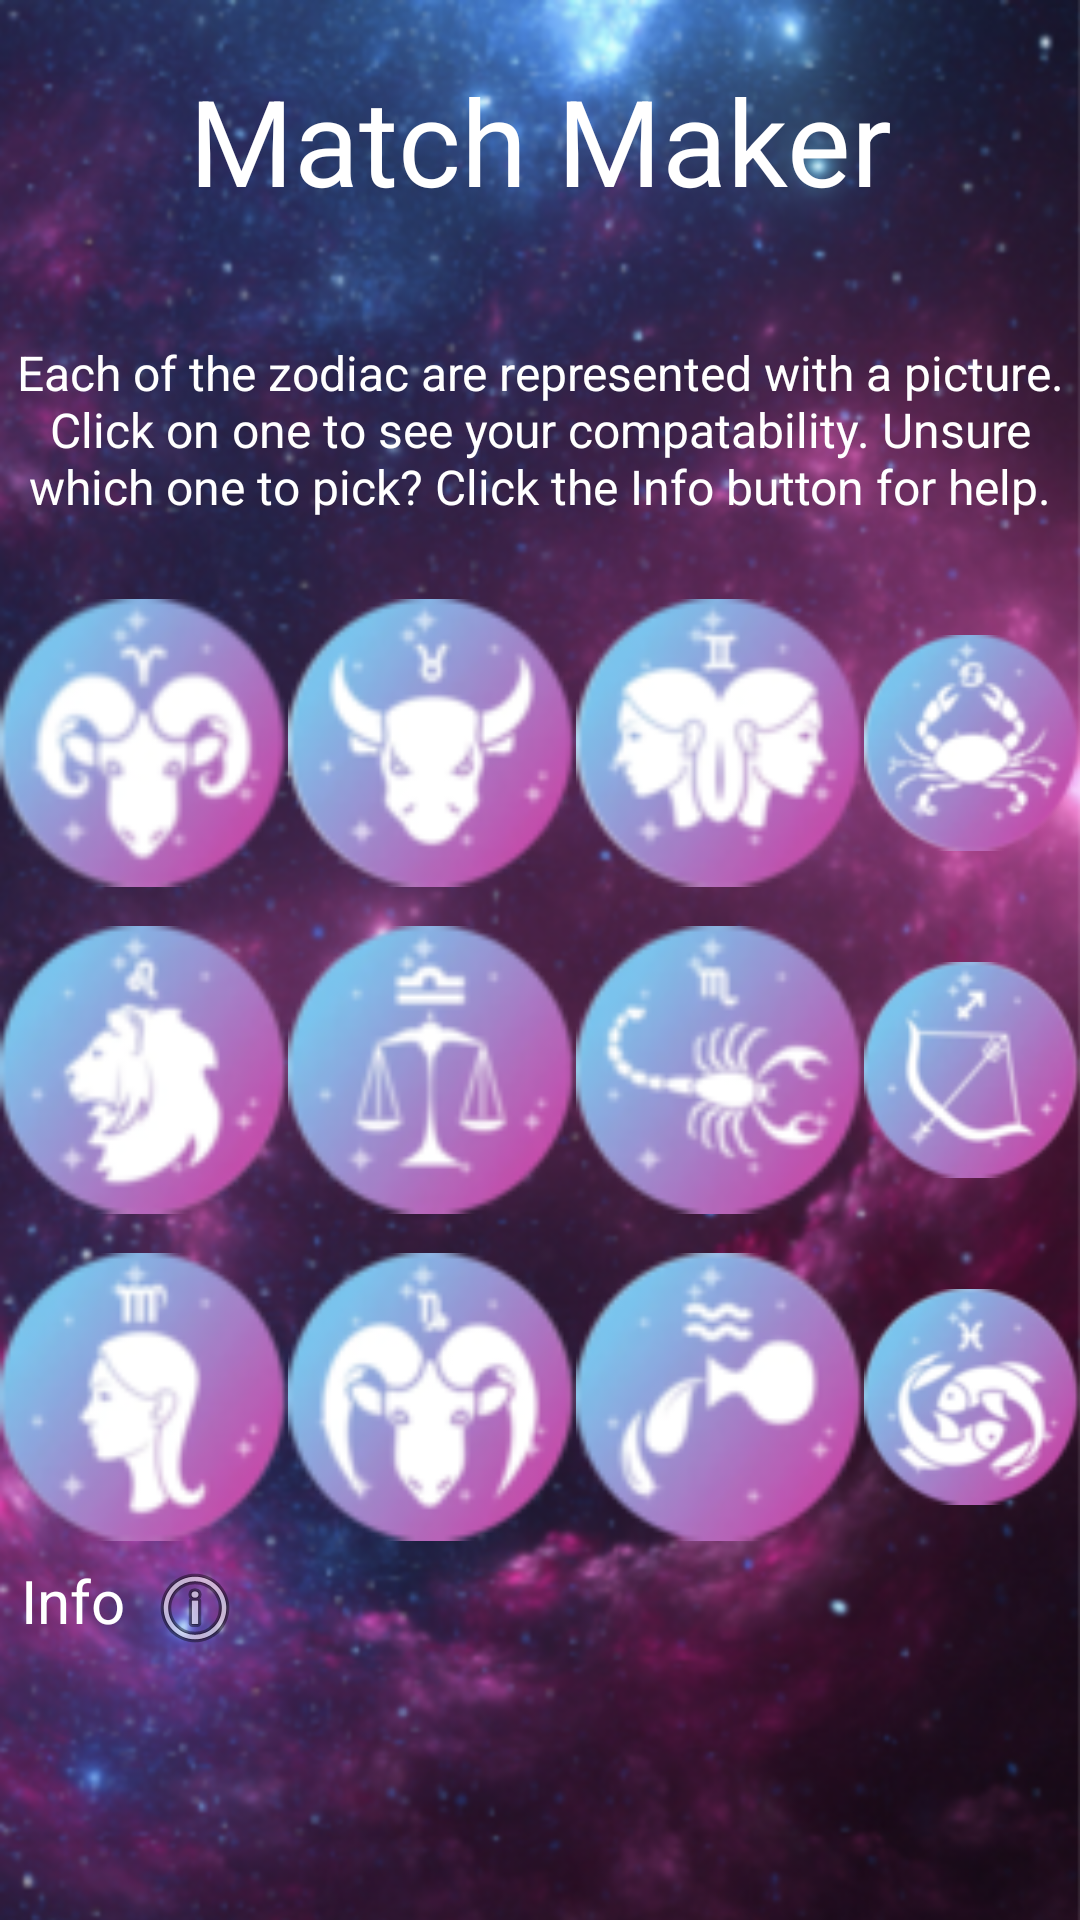

Icons on this 1080×1920 Android screen, each with the point to tap as (x,y):
aquarius: (720,1396)
aries: (144,747)
cancer: (972,755)
capricorn: (432,1397)
gemini: (720,742)
leo: (144,1069)
libra: (432,1069)
pisces: (972,1402)
sagittarius: (972,1069)
scorpio: (720,1069)
taurusicon: (432,742)
virgo: (144,1396)
